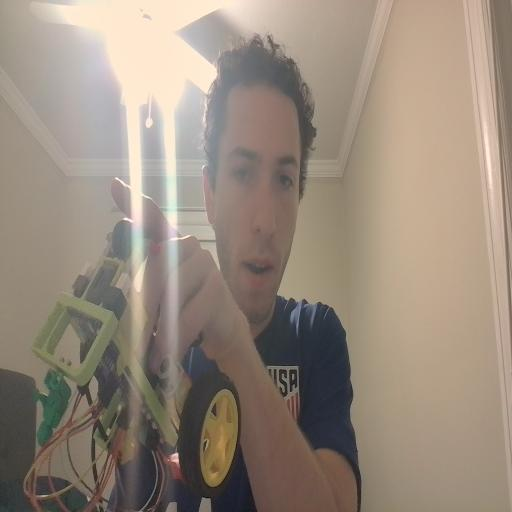green LEGO minifig: (32, 365, 74, 451)
